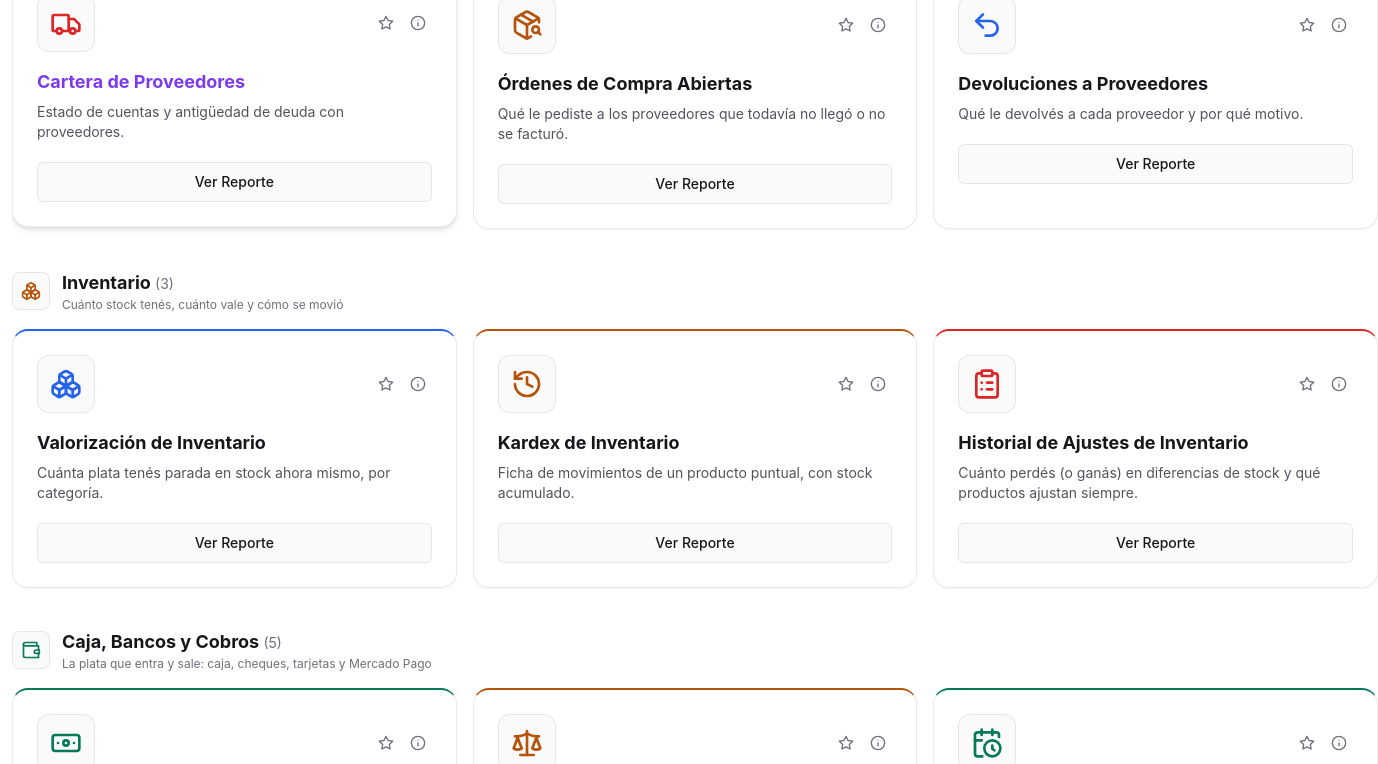
Test case: GridReportes — favoritos › el chip Favoritos muestra solo los marcados; desmarcar el último vuelve a mostrar todo
(page scrolled)
Click the button named "Marcar Kardex de Inventario como favorito". click: {"x": 846, "y": 384}
box: [832,370,860,398]
(page scrolled)
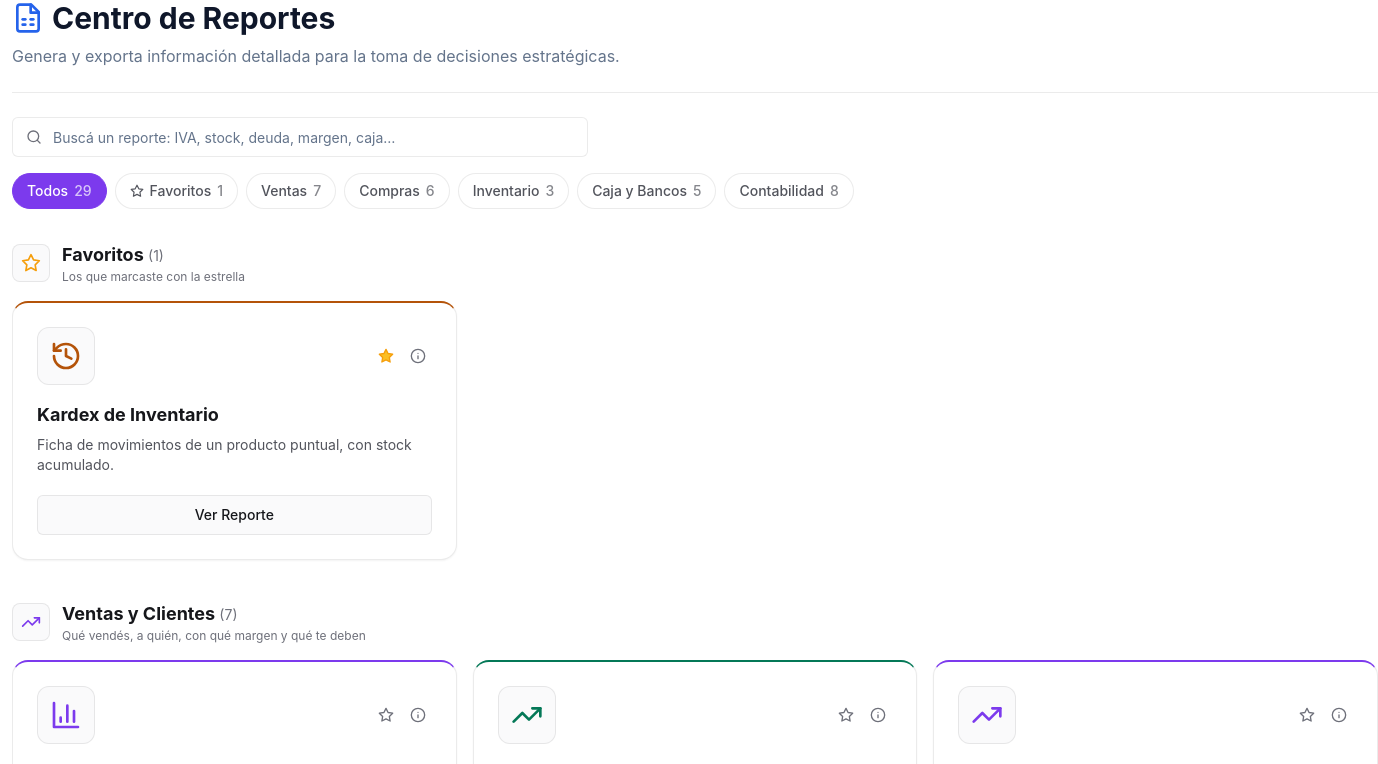
Click the button "Favoritos 1". click: {"x": 176, "y": 191}
box: [115,173,238,209]
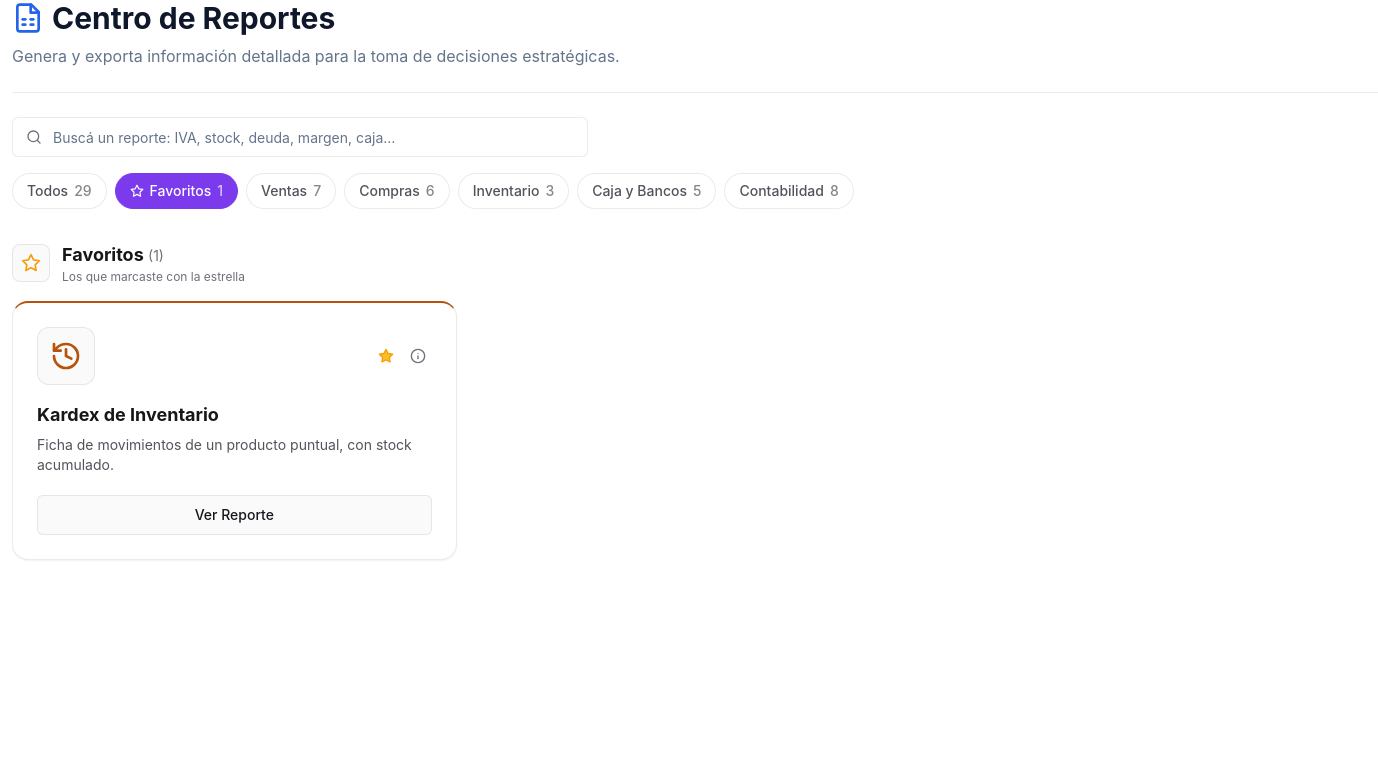
Click the button named "Quitar Kardex de Inventario de favoritos". click: {"x": 386, "y": 356}
box: [372,342,400,370]
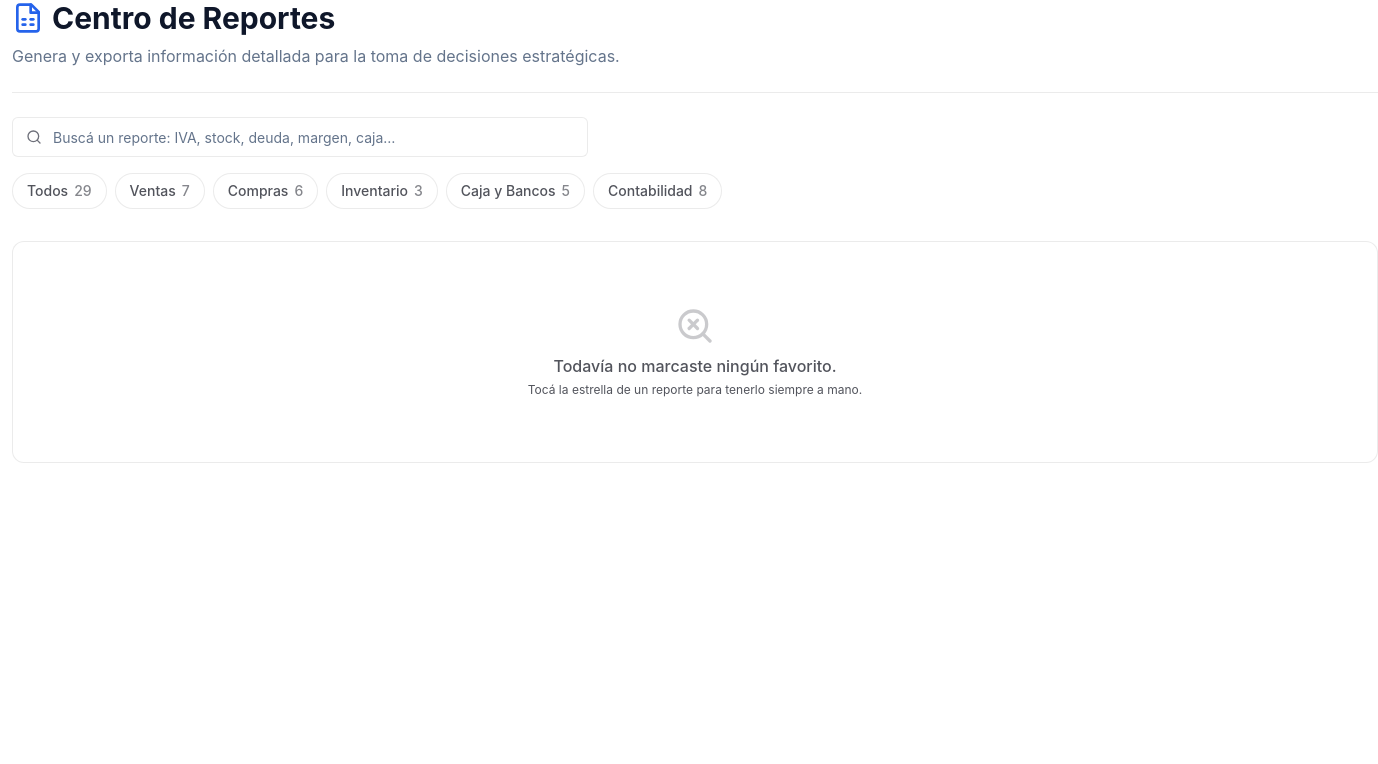
Expected: the text "Todavía no marcaste ningún favorito." is shown, [554,356,836,376]
